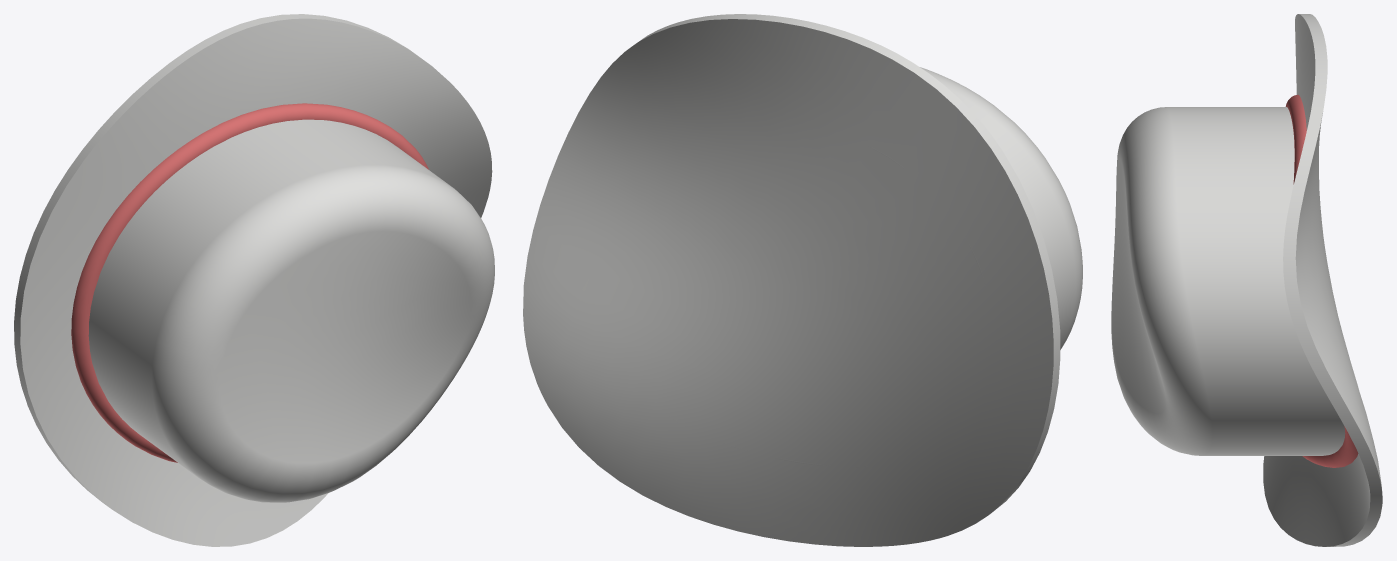
File: Fancy.glb
The picture shows the model from 3 angles, left to right: view 1: azimuth 30°, elevation 25°; view 2: azimuth 150°, elevation 25°; view 3: azimuth 270°, elevation 25°; orthographic projection. The views are drawn at different scales.
Bounding box in the file's own units: 11.17 × 11.17 × 5.69.
